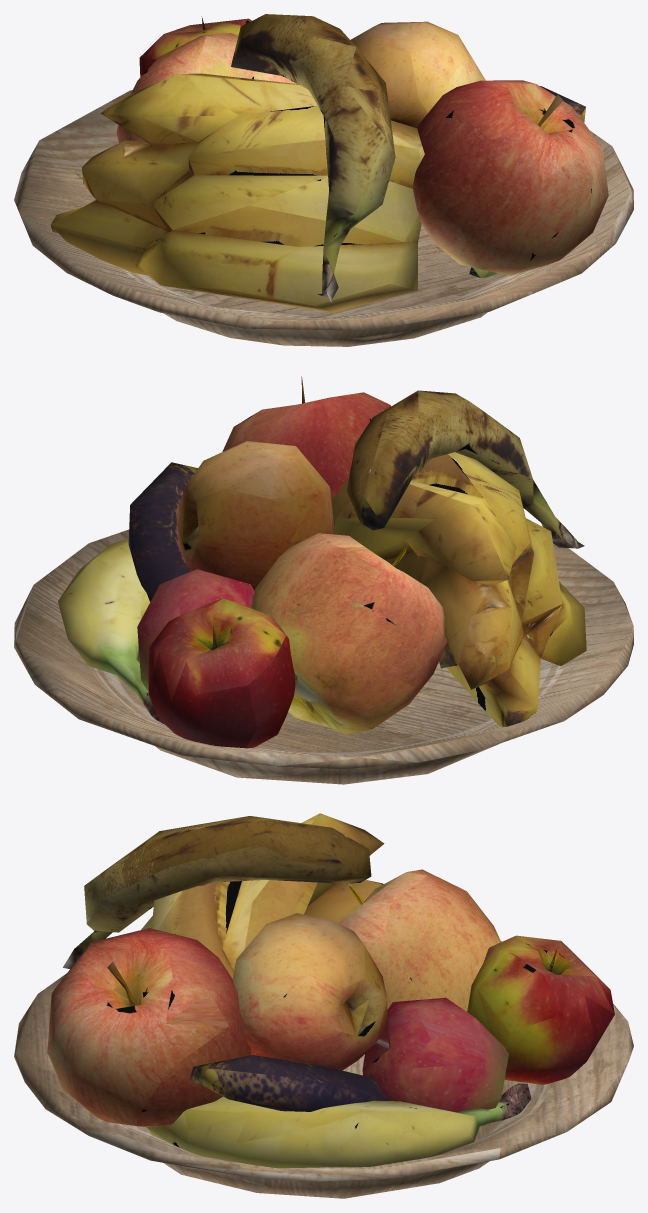
The model's file is Food.fbx.
3 views of the same model, one above another, from view 1: azimuth 30°, elevation 25°; view 2: azimuth 150°, elevation 25°; view 3: azimuth 270°, elevation 25° (orthographic).
Visible parts, largest first — view 1: banana10_lr; view 2: banana10_lr; view 3: banana10_lr.
Boxes of the visible parts, box(x1,y1,x2,y2) form: banana10_lr: box(14, 14, 633, 346); banana10_lr: box(14, 376, 633, 784); banana10_lr: box(14, 813, 633, 1198).
Size of the model in its own units: 18.76 by 9.11 by 18.78.
10 materials, 10 textured.
